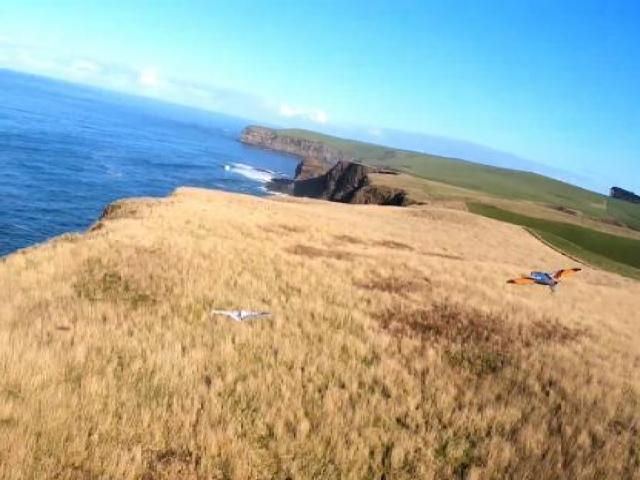uav: (508, 264, 580, 294), (209, 305, 271, 324)
